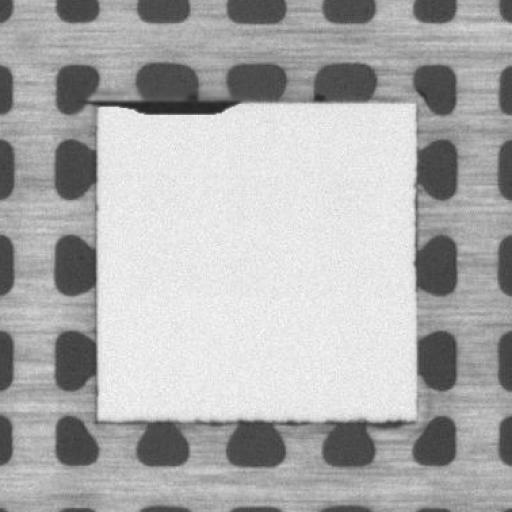DIE_BROKEN: (84, 95, 244, 116)
